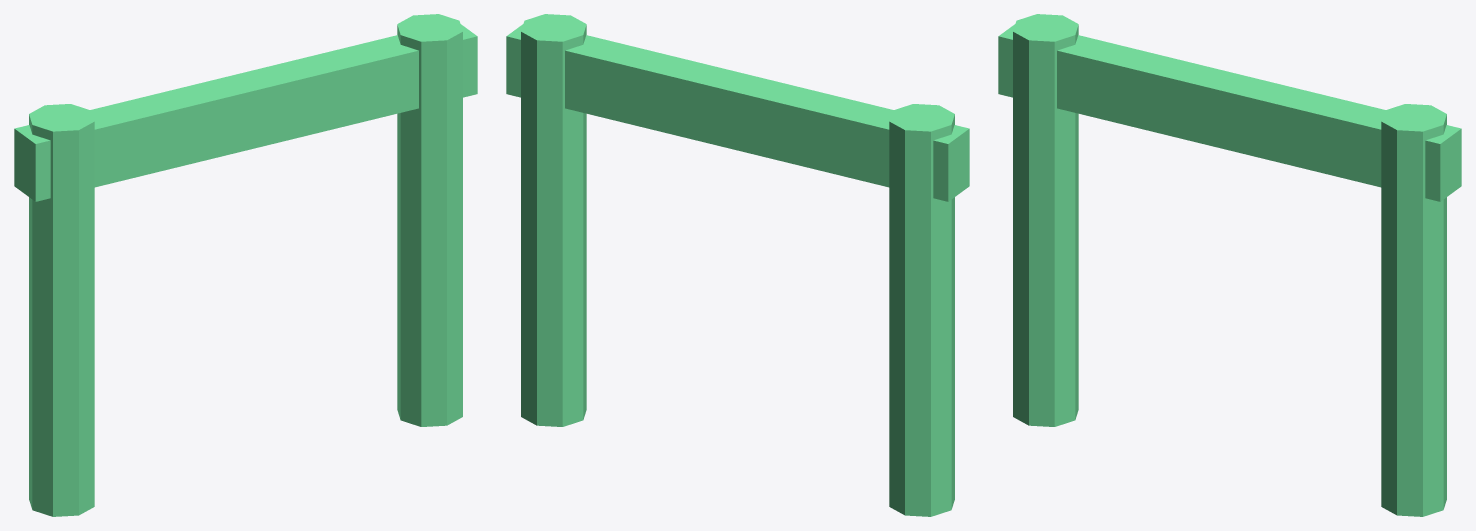
File: Gate_Multiply.fbx
3 views of the same model, side by side, from view 1: azimuth 30°, elevation 25°; view 2: azimuth 150°, elevation 25°; view 3: azimuth 330°, elevation 25° (orthographic).
Parts seen in each view (by area): view 1: Gate_Multiply; view 2: Gate_Multiply; view 3: Gate_Multiply.
Boxes of the visible parts, bbox=[...] form: Gate_Multiply: bbox=[14, 14, 477, 516]; Gate_Multiply: bbox=[506, 14, 969, 516]; Gate_Multiply: bbox=[998, 14, 1461, 516].
Size of the model in its own units: 1.2 by 1 by 0.16.
